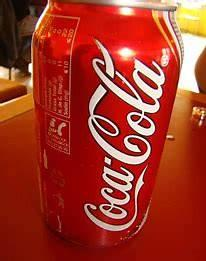metal: (33, 0, 184, 247)
